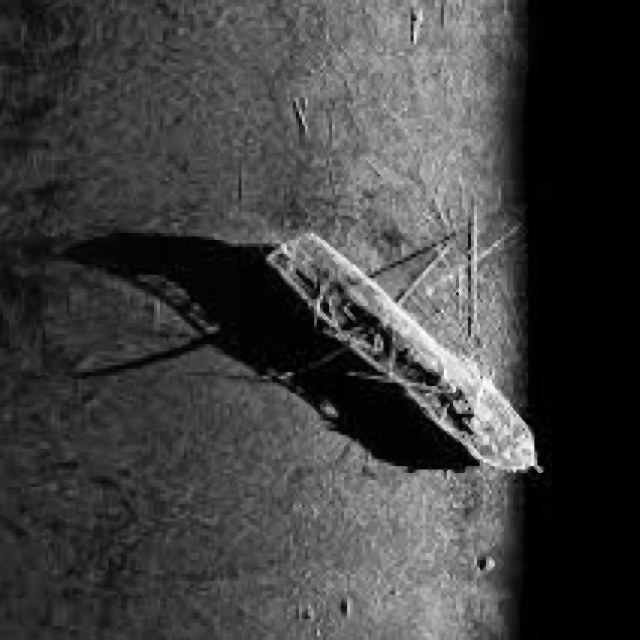Ship: (257, 214, 551, 492)
